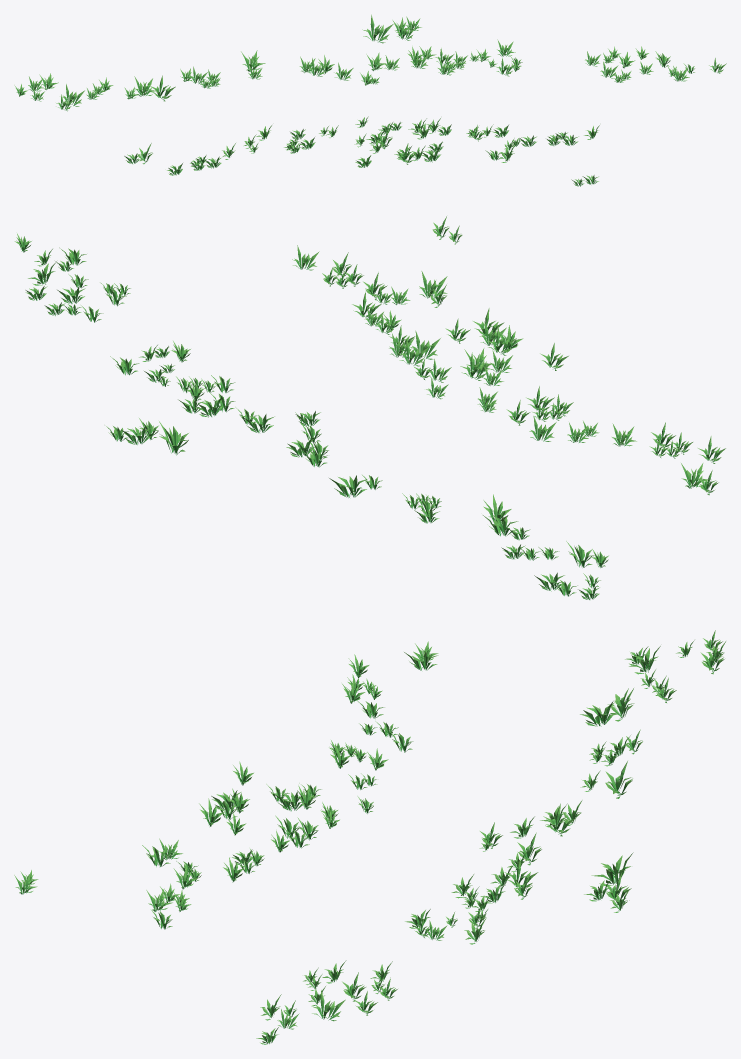
File: Area_13_38.fbx
The picture shows the model from 3 angles, top to bottom: view 1: azimuth 30°, elevation 25°; view 2: azimuth 150°, elevation 25°; view 3: azimuth 270°, elevation 25°; orthographic projection. The views are drawn at different scales.
Parts seen in each view (by area): view 1: Area_13_38; view 2: Area_13_38; view 3: Area_13_38.
Part boxes in pixels (bbox=[...]): Area_13_38: bbox=[14, 14, 726, 186]; Area_13_38: bbox=[14, 216, 725, 599]; Area_13_38: bbox=[14, 630, 725, 1044].
Size of the model in its own units: 2994 by 117 by 2244.
